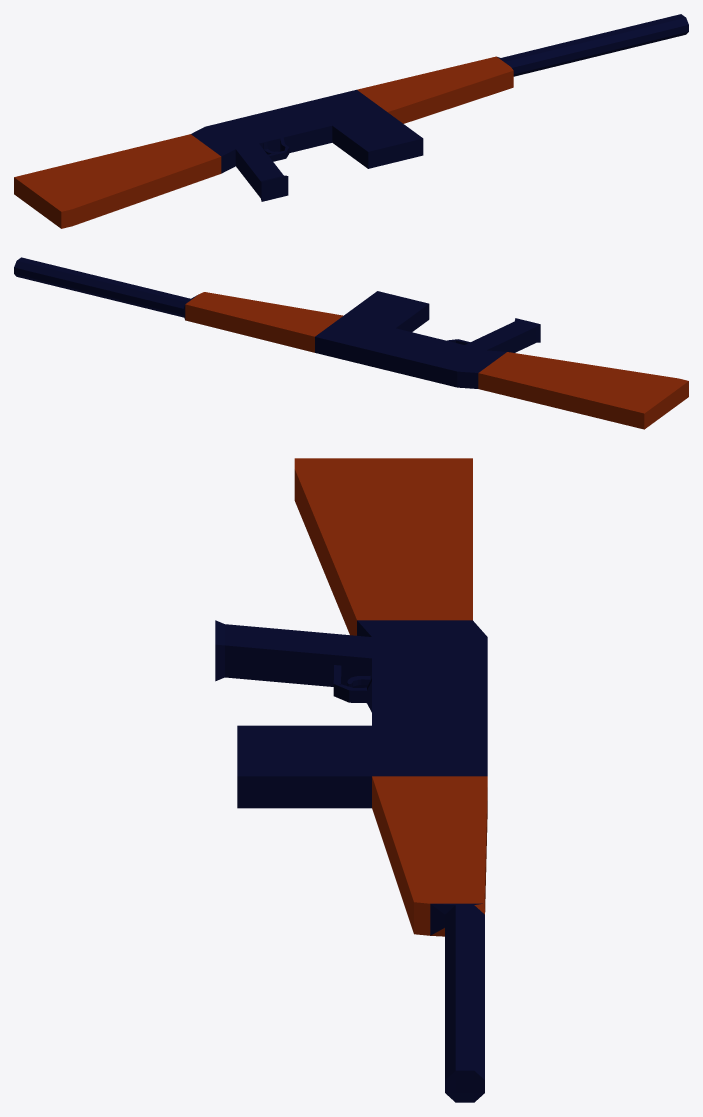
Rendered from gun.fbx.
The picture shows the model from 3 angles, top to bottom: view 1: azimuth 30°, elevation 25°; view 2: azimuth 150°, elevation 25°; view 3: azimuth 270°, elevation 25°; orthographic projection. The views are drawn at different scales.
Parts seen in each view (by area): view 1: Cube; view 2: Cube; view 3: Cube.
Boxes of the visible parts, x1,y1,x2,y2 form: Cube: (14,14,688,228); Cube: (14,257,688,429); Cube: (215,458,487,1102).
Size of the model in its own units: 2107 by 59.18 by 396.
